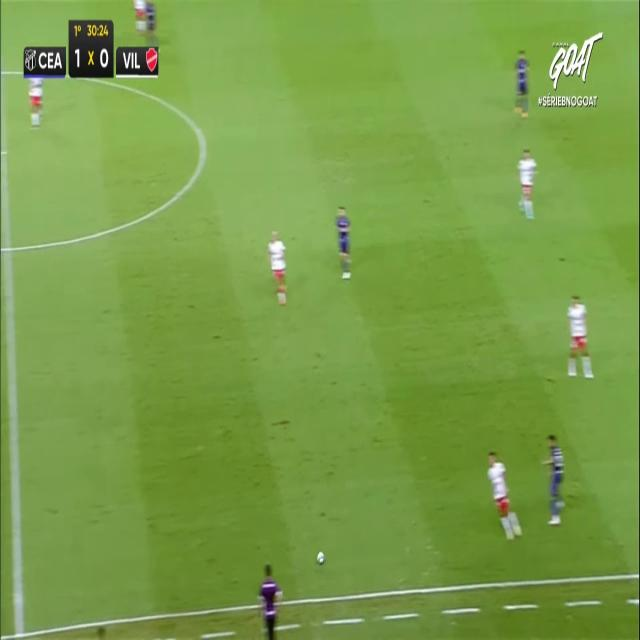ball: (316, 551, 324, 565)
player: (486, 450, 522, 540), (566, 293, 594, 378), (542, 433, 566, 524), (267, 229, 287, 305), (517, 148, 538, 220), (335, 205, 352, 279), (28, 77, 48, 137), (513, 48, 530, 117), (145, 3, 159, 48), (131, 0, 147, 37)
